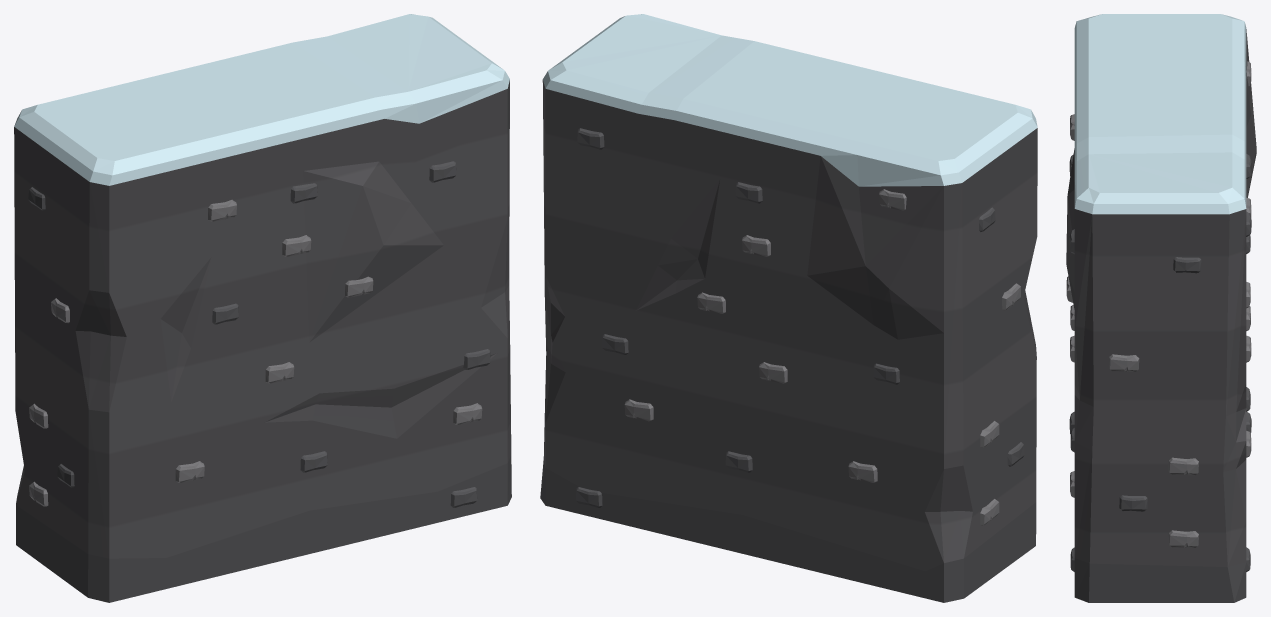
The model's file is SM_Bld_Castle_Wall_01_Snow.glb.
3 views of the same model, side by side, from view 1: azimuth 30°, elevation 25°; view 2: azimuth 150°, elevation 25°; view 3: azimuth 270°, elevation 25° (orthographic). The views are drawn at different scales.
Visible parts, largest first — view 1: SM_Bld_Castle_Wall_01_Snow; view 2: SM_Bld_Castle_Wall_01_Snow; view 3: SM_Bld_Castle_Wall_01_Snow.
Part boxes in pixels (x1,y1,x2,y2): SM_Bld_Castle_Wall_01_Snow: (14, 14, 511, 602); SM_Bld_Castle_Wall_01_Snow: (540, 14, 1037, 602); SM_Bld_Castle_Wall_01_Snow: (1066, 14, 1256, 602).
Bounding box in the file's own units: 5.4 × 5.19 × 2.22.
1 material, 1 textured.
